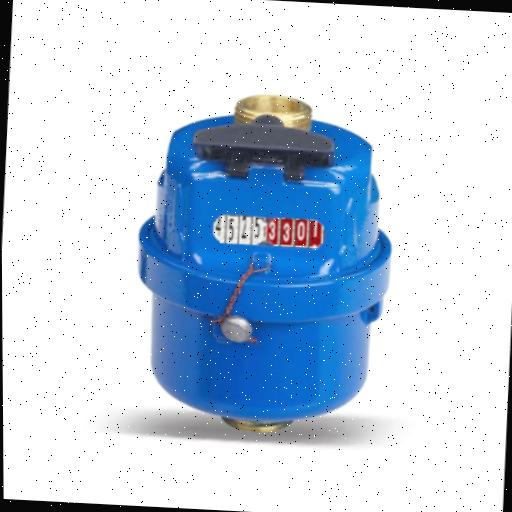0: (295, 219, 308, 248)
1: (309, 220, 326, 249)
2: (238, 216, 252, 246)
3: (267, 218, 280, 247), (281, 218, 293, 247)
4: (212, 215, 226, 243)
5: (252, 216, 266, 246), (226, 215, 239, 243)
border_water_meter_number: (212, 214, 326, 249)
